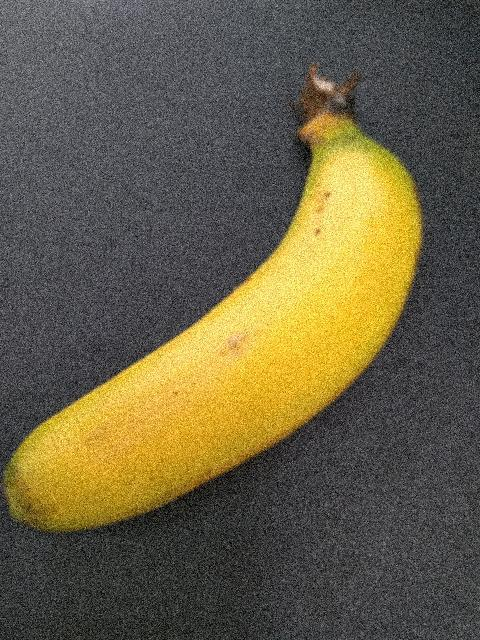freshripe: (6, 112, 422, 546)
